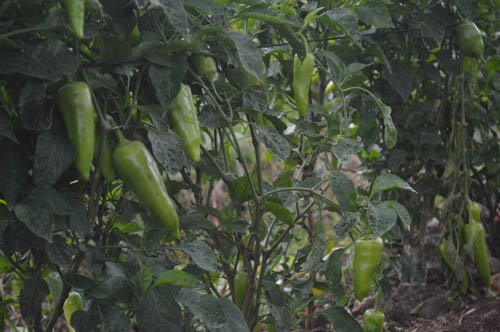ChiliPepper: (118, 143, 182, 236), (60, 83, 96, 177), (169, 85, 202, 163), (352, 236, 386, 301), (467, 223, 492, 283), (291, 53, 309, 116), (456, 23, 484, 58)
